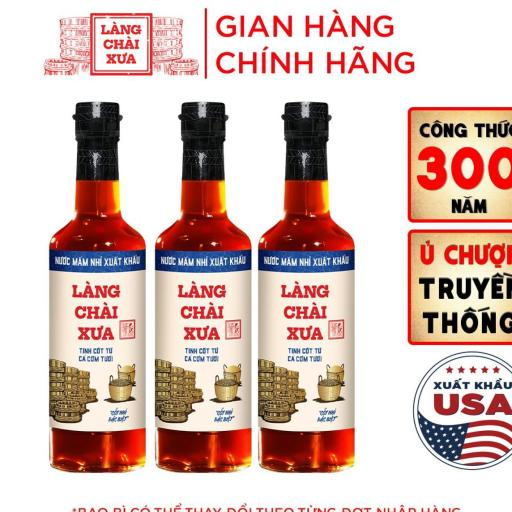bottle: (258, 102, 356, 472), (49, 102, 145, 472), (155, 102, 251, 472)
